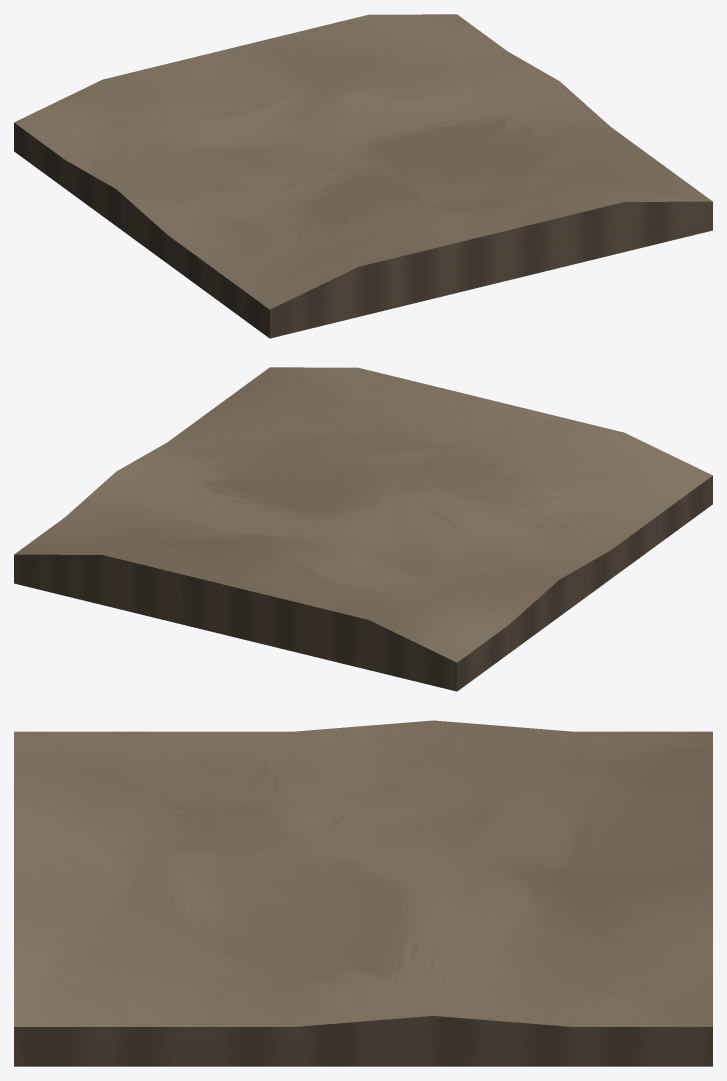
Rendered from Floor Tile Cave.fbx.
The picture shows the model from 3 angles, top to bottom: view 1: azimuth 30°, elevation 25°; view 2: azimuth 150°, elevation 25°; view 3: azimuth 270°, elevation 25°; orthographic projection. The views are drawn at different scales.
Parts seen in each view (by area): view 1: floor_tile; view 2: floor_tile; view 3: floor_tile.
Part boxes in pixels (x1=…): floor_tile: x1=14, y1=14, x2=712, y2=338; floor_tile: x1=14, y1=367, x2=712, y2=691; floor_tile: x1=14, y1=720, x2=712, y2=1066.
Size of the model in its own units: 10 by 1.08 by 10.
Materials: 1 (1 with a texture image).
